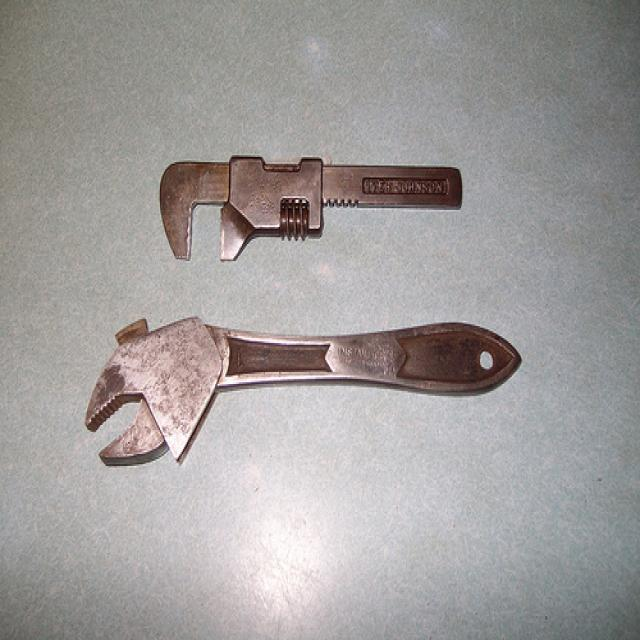wrench: (71, 307, 528, 463), (140, 127, 474, 270)
